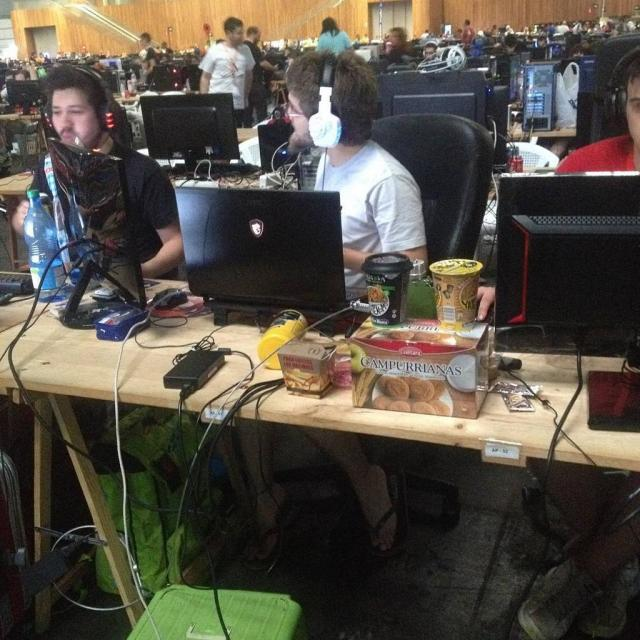chair: (369, 112, 495, 264)
desk: (10, 280, 639, 640)
laptop: (172, 186, 368, 316)
person: (13, 64, 185, 280), (280, 52, 429, 280), (556, 46, 639, 175), (198, 16, 255, 128), (242, 25, 281, 124), (378, 27, 414, 72), (316, 16, 352, 55)
tv: (140, 93, 244, 173), (521, 62, 559, 132)
